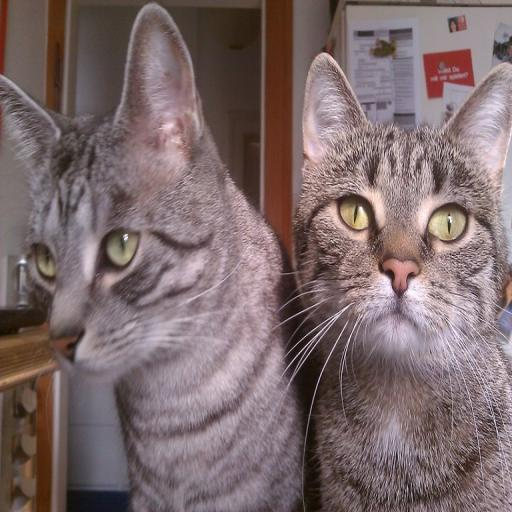cat: (0, 2, 305, 512), (282, 51, 512, 512)
